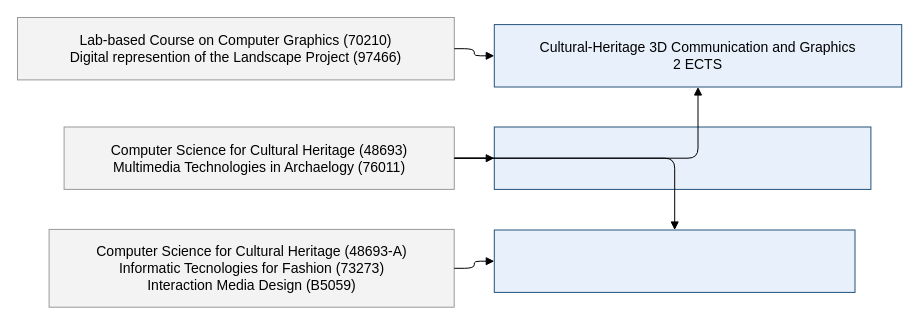
Image size: 920x325. Some labels were removed from this diagram. Here are the shapes that lost their labels. From the top down, the centre of each, then its label:
pixel 682 157: Cultural-Heritage 3D Survey and Point Clouds 2 ECTS
pixel 674 260: Cultural-Heritage 3D Modeling and Printing 2 ECTS
